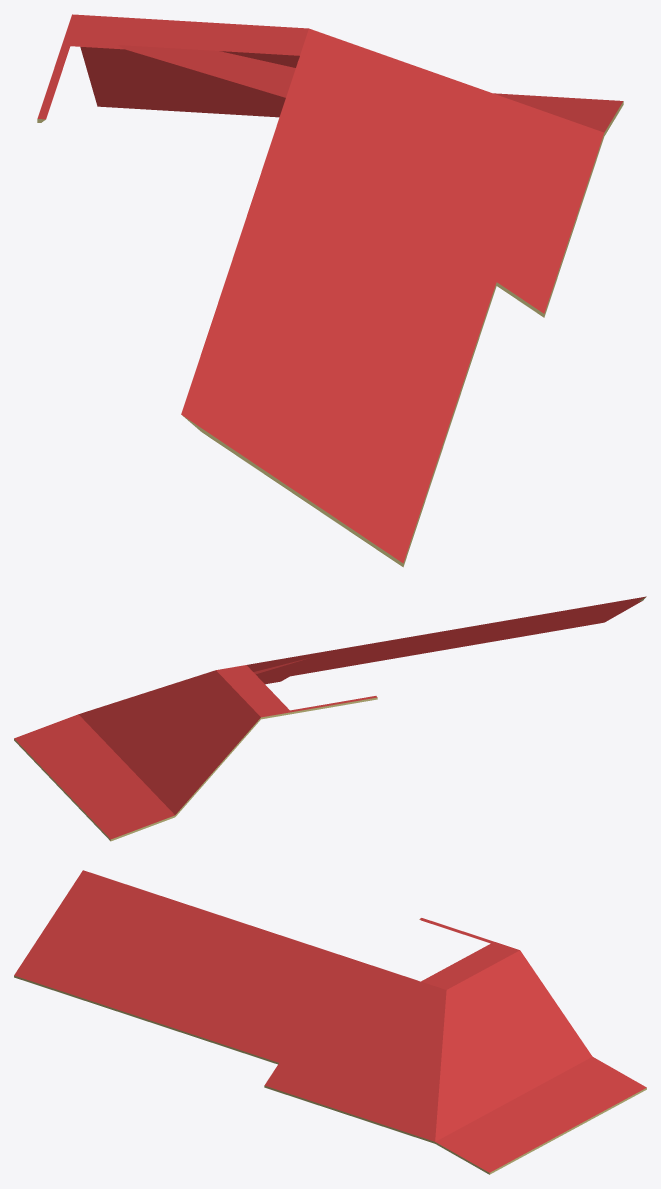
3 views of the same model, one above another, from view 1: azimuth 30°, elevation 25°; view 2: azimuth 150°, elevation 25°; view 3: azimuth 270°, elevation 25° (orthographic). The views are drawn at different scales.
Bounding box in the file's own units: 22.46 × 29.01 × 4.93.
